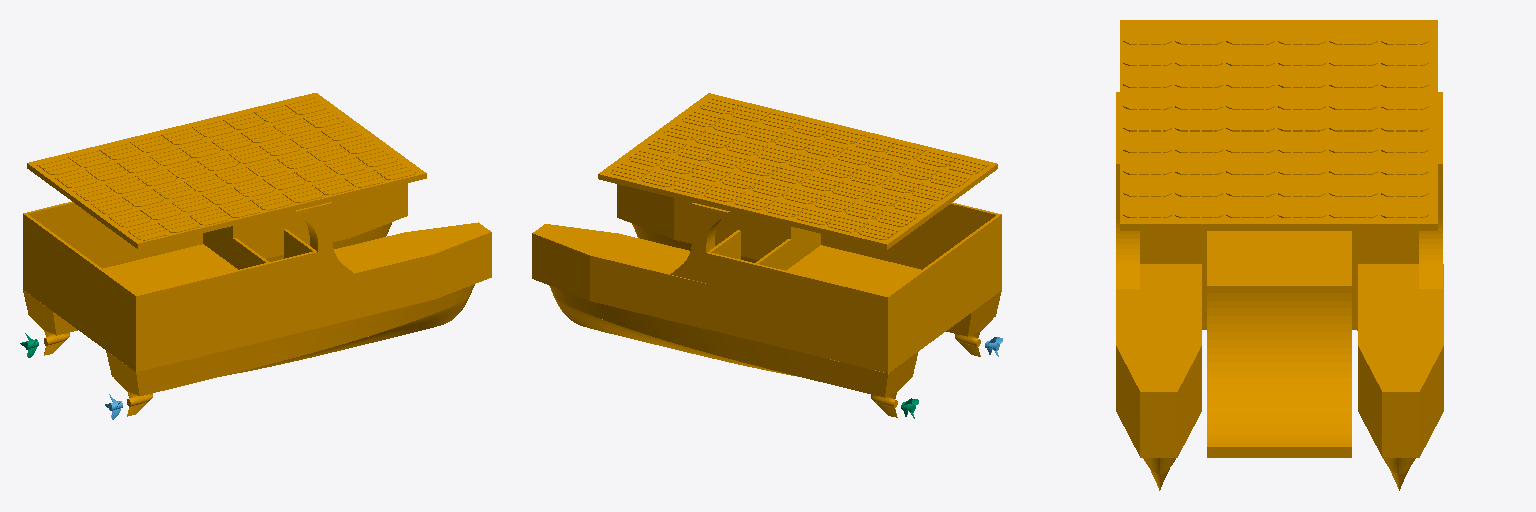
URDF robot description (boat_1):
<?xml version="1.0" ?>
<!-- =================================================================================== -->
<!-- |    This document was autogenerated by xacro from [local-path]/ros2_ws/src/boat_1/xacro/boat_1.xacro | -->
<!-- |    EDITING THIS FILE BY HAND IS NOT RECOMMENDED                                 | -->
<!-- =================================================================================== -->
<robot name="boat_1">
  <!-- ================= PARAMETERS ================= -->
  <!-- ================= HULL ================= -->
  <link name="hull_1">
    <inertial>
      <origin rpy="0 0 0" xyz="0.055 0 -0.5"/>
      <mass value="2000"/>
      <inertia ixx="5000" ixy="0" ixz="0" iyy="5000" iyz="0" izz="5000"/>
    </inertial>
    <collision name="hull_collision">
      <geometry>
        <box size="2 1.33 1.7"/>
      </geometry>
    </collision>
    <collision name="stabilizer_left">
      <origin xyz="0 1 0"/>
      <geometry>
        <box size="1 0.1 0.1"/>
      </geometry>
    </collision>
    <collision name="stabilizer_right">
      <origin xyz="0 -1 0"/>
      <geometry>
        <box size="1 0.1 0.1"/>
      </geometry>
    </collision>
    <visual>
      <geometry>
        <mesh filename="package://boat_1/meshes/boat.stl"/>
      </geometry>
    </visual>
  </link>
  <!-- ================= LEFT PROPELLER ================= -->
  <link name="propeller_left">
    <inertial>
      <mass value="50"/>
      <inertia ixx="0.1" ixy="0" ixz="0" iyy="0.1" iyz="0" izz="0.1"/>
    </inertial>
    <visual>
      <geometry>
        <mesh filename="package://boat_1/meshes/prop.stl"/>
      </geometry>
    </visual>
  </link>
  <!-- ================= RIGHT PROPELLER ================= -->
  <link name="propeller_right">
    <inertial>
      <mass value="50"/>
      <inertia ixx="0.1" ixy="0" ixz="0" iyy="0.1" iyz="0" izz="0.1"/>
    </inertial>
    <visual>
      <geometry>
        <mesh filename="package://boat_1/meshes/prop.stl"/>
      </geometry>
    </visual>
  </link>
  <!-- ================= JOINTS ================= -->
  <joint name="prop_joint_left" type="continuous">
    <parent link="hull_1"/>
    <child link="propeller_left"/>
    <origin xyz="-1.1 -0.5 -0.24"/>
    <axis xyz="1 0 0"/>
  </joint>
  <joint name="prop_joint_right" type="continuous">
    <parent link="hull_1"/>
    <child link="propeller_right"/>
    <origin xyz="-1.1 0.5 -0.24"/>
    <axis xyz="-1 0 0"/>
  </joint>
  <!-- ================= GAZEBO EXTENSIONS ================= -->
  <gazebo reference="hull_1">
    <velocity_decay>
      <linear>0.1</linear>
      <angular>50.0</angular>
    </velocity_decay>
  </gazebo>
  <!-- ================= THRUSTERS ================= -->
  <gazebo>
    <plugin filename="libignition-gazebo-thruster-system.so" name="ignition::gazebo::systems::Thruster">
      <joint_name>prop_joint_left</joint_name>
      <thrust_coefficient>0.1</thrust_coefficient>
      <fluid_density>1000</fluid_density>
      <propeller_diameter>0.2</propeller_diameter>
      <velocity_control>true</velocity_control>
      <p_gain>0.1</p_gain>
    </plugin>
  </gazebo>
  <gazebo>
    <plugin filename="libignition-gazebo-thruster-system.so" name="ignition::gazebo::systems::Thruster">
      <joint_name>prop_joint_right</joint_name>
      <thrust_coefficient>0.1</thrust_coefficient>
      <fluid_density>1000</fluid_density>
      <propeller_diameter>0.2</propeller_diameter>
      <velocity_control>true</velocity_control>
      <p_gain>0.1</p_gain>
    </plugin>
  </gazebo>
  <!-- ================= HYDRODYNAMICS ================= -->
  <gazebo>
    <plugin filename="libignition-gazebo-hydrodynamics-system.so" name="ignition::gazebo::systems::Hydrodynamics">
      <link_name>hull_1</link_name>
      <linear_drag_coefficients>1 50 50</linear_drag_coefficients>
      <angular_drag_coefficients>[phone redacted]</angular_drag_coefficients>
    </plugin>
  </gazebo>
</robot>

--- Facts derived from the render (not from the file) ---
The picture shows the robot from 3 angles, left to right: view 1: azimuth 30°, elevation 25°; view 2: azimuth 150°, elevation 25°; view 3: azimuth 270°, elevation 25°; orthographic projection.
Robot: boat_1 — 3 links, 2 joints (2 continuous); root link hull_1; default pose: all joints at 0.
Visible links, largest first — view 1: hull_1; view 2: hull_1; view 3: hull_1.
Boxes of the visible links, box(x1,y1,x2,y2) form: hull_1: box(23, 93, 491, 416); hull_1: box(532, 93, 1001, 417); hull_1: box(1116, 20, 1443, 490).
Size in the robot's own frame: 2.57 by 1.35 by 1.21 metres.
Meshes: 2 distinct files referenced, 3 mesh visuals loaded (2 binary STL).